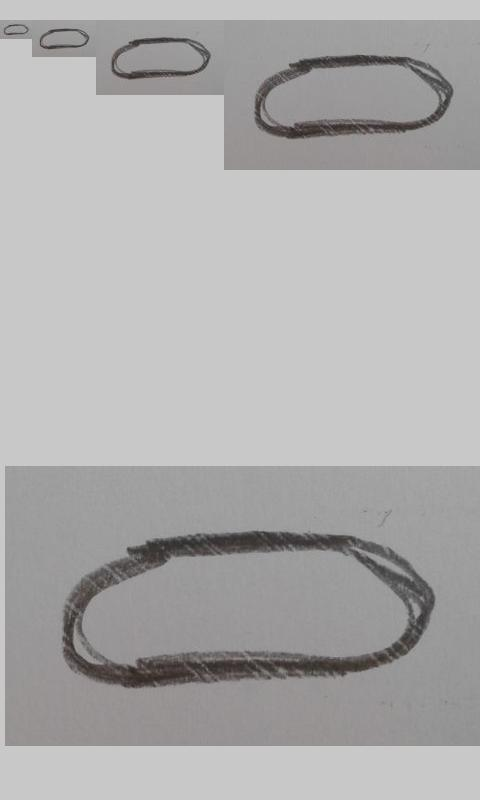chip: (62, 529, 441, 688), (254, 54, 454, 140), (110, 36, 212, 79), (39, 28, 90, 50), (3, 24, 29, 35)
